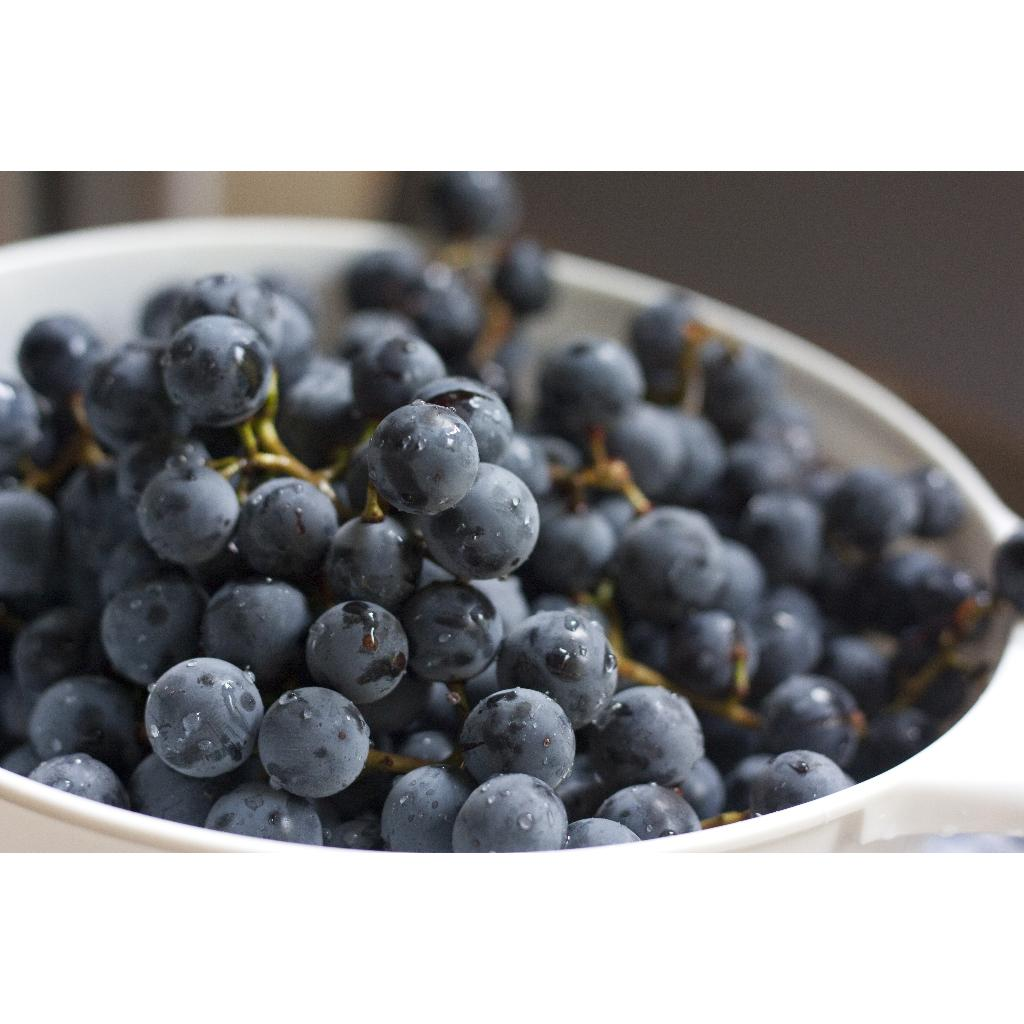grape: (0, 275, 860, 851)
